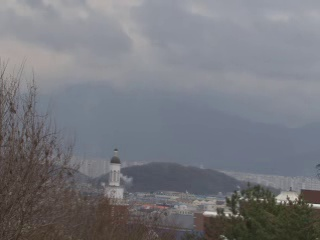smoke: (120, 174, 130, 184)
